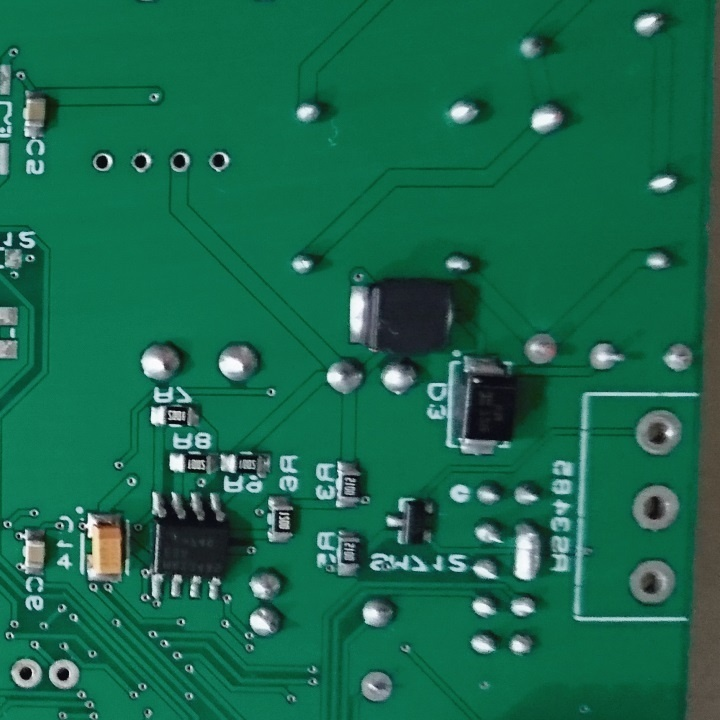F: (631, 481, 681, 540), (627, 557, 678, 612), (633, 408, 687, 458), (586, 336, 627, 376), (519, 328, 561, 366), (357, 668, 396, 706), (9, 655, 45, 692), (661, 342, 696, 376), (47, 658, 81, 692), (127, 148, 154, 177), (164, 149, 193, 175), (207, 149, 233, 176), (90, 152, 114, 173)
P: (510, 520, 543, 586)
